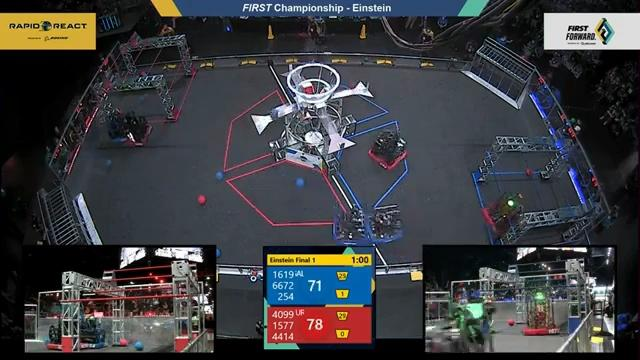robot: (481, 192, 523, 235), (367, 130, 410, 171), (524, 290, 560, 336), (365, 204, 405, 243), (332, 209, 370, 247), (48, 317, 88, 352), (118, 112, 153, 148), (102, 109, 134, 145), (87, 320, 106, 349)
